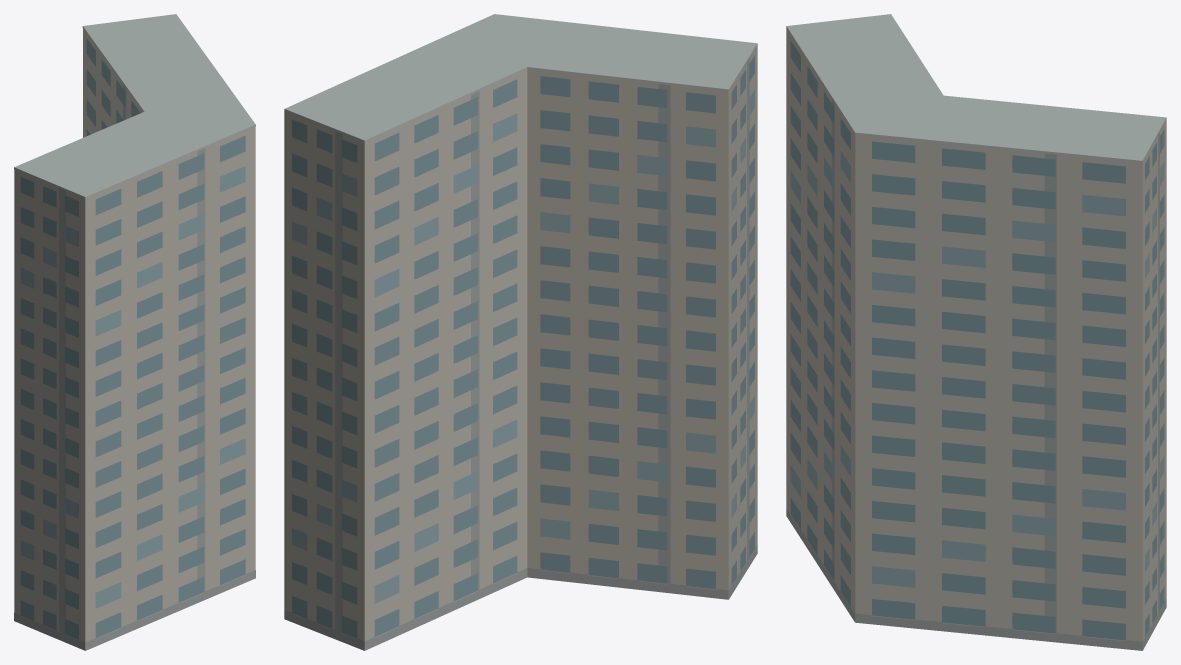
The model's file is residential-c88e897d-c794-4d94-9a90-f6ddbdbdb1c7.glb.
3 renders of one model, left to right at view 1: azimuth 30°, elevation 25°; view 2: azimuth 150°, elevation 25°; view 3: azimuth 270°, elevation 25°, orthographic. The views are drawn at different scales.
Parts seen in each view (by area): view 1: residential-c88e897d-c794-4d94-9a90-f6ddbdbdb1c7.tmp; view 2: residential-c88e897d-c794-4d94-9a90-f6ddbdbdb1c7.tmp; view 3: residential-c88e897d-c794-4d94-9a90-f6ddbdbdb1c7.tmp.
Part boxes in pixels (x1,y1,x2,y2): residential-c88e897d-c794-4d94-9a90-f6ddbdbdb1c7.tmp: [14, 14, 255, 650]; residential-c88e897d-c794-4d94-9a90-f6ddbdbdb1c7.tmp: [284, 14, 757, 650]; residential-c88e897d-c794-4d94-9a90-f6ddbdbdb1c7.tmp: [786, 14, 1166, 650].
Bounding box in the file's own units: 34.06 × 53 × 37.26.
